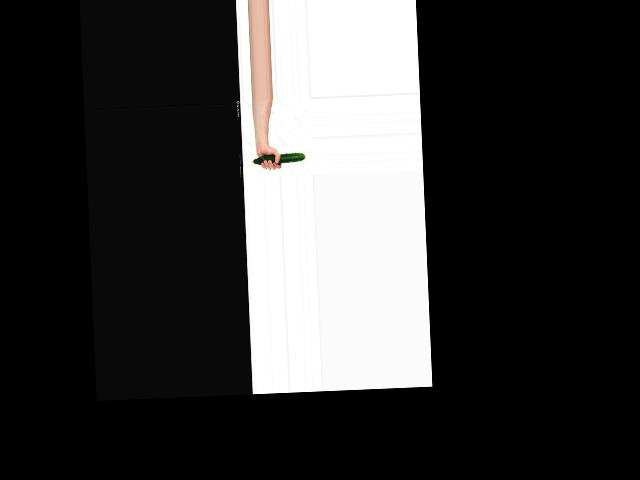cucumber: (251, 152, 305, 165)
